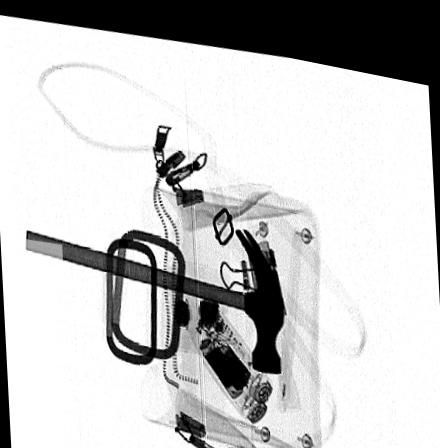Hammer: (23, 218, 284, 364)
